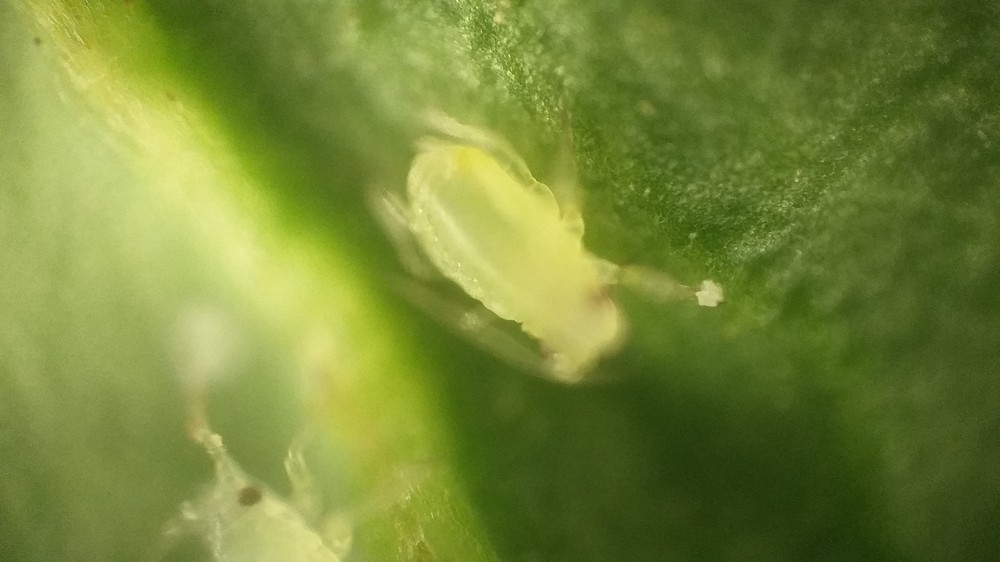Pulgon: (334, 115, 714, 411), (116, 401, 453, 562)
